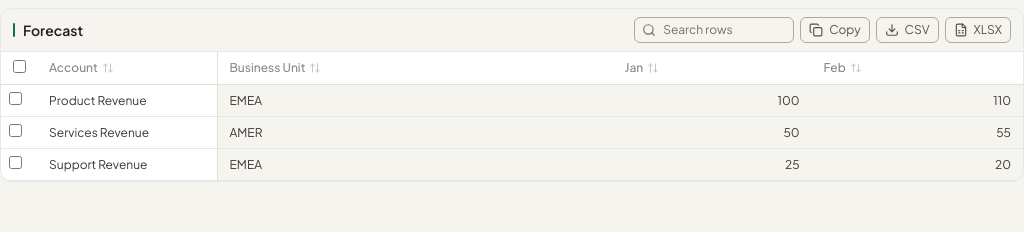
Test: DataTable › selection › drops selections for rows a filter has hidden
Click the checkbox named "Select r2" at {"x": 16, "y": 130}, box [9,124,22,137]
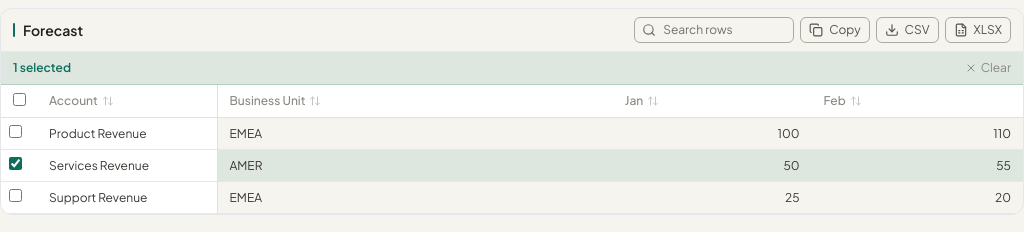
Expected: the text "1 selected" is shown, [13,60,71,76]
Type "EMEA" into the search field at {"x": 714, "y": 30}, box [634,17,794,43]
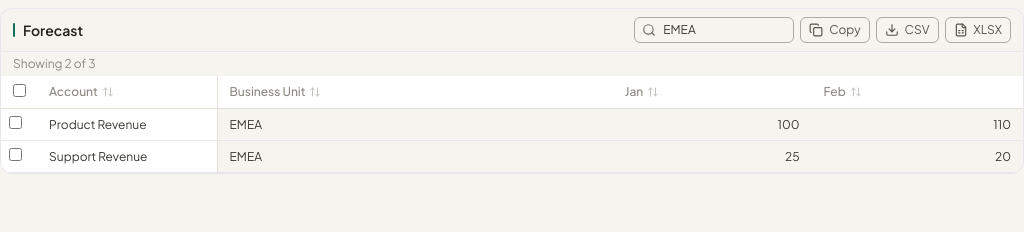
Expected: the text "1 selected" is gone
